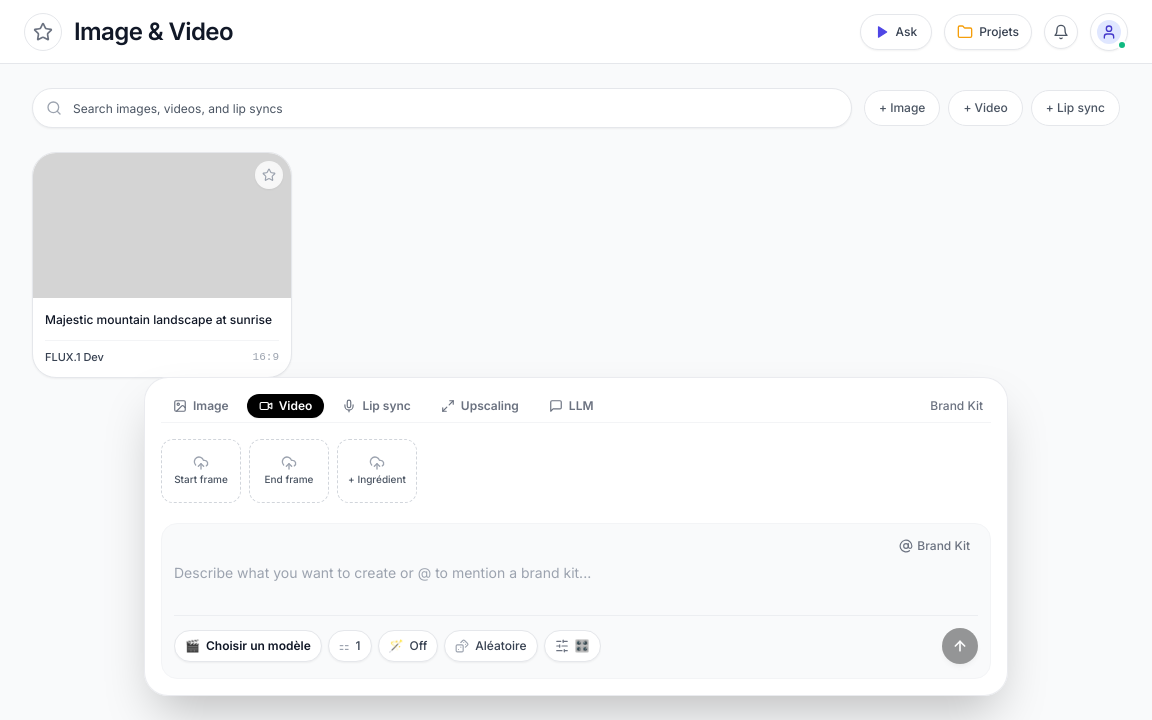
Test: App Integration › renders app with TopNavBar, MediaGallery and opens MediaPlayerModal on card click
Expected: the heading "Image & Video" is shown, 74,16 -> 233,48
Expected: the text "Majestic mountain landscape at sunrise" is shown, 45,310 -> 279,330
Click the button with test id "media-card-gen_app_1": (162, 265) 32,152 -> 292,378
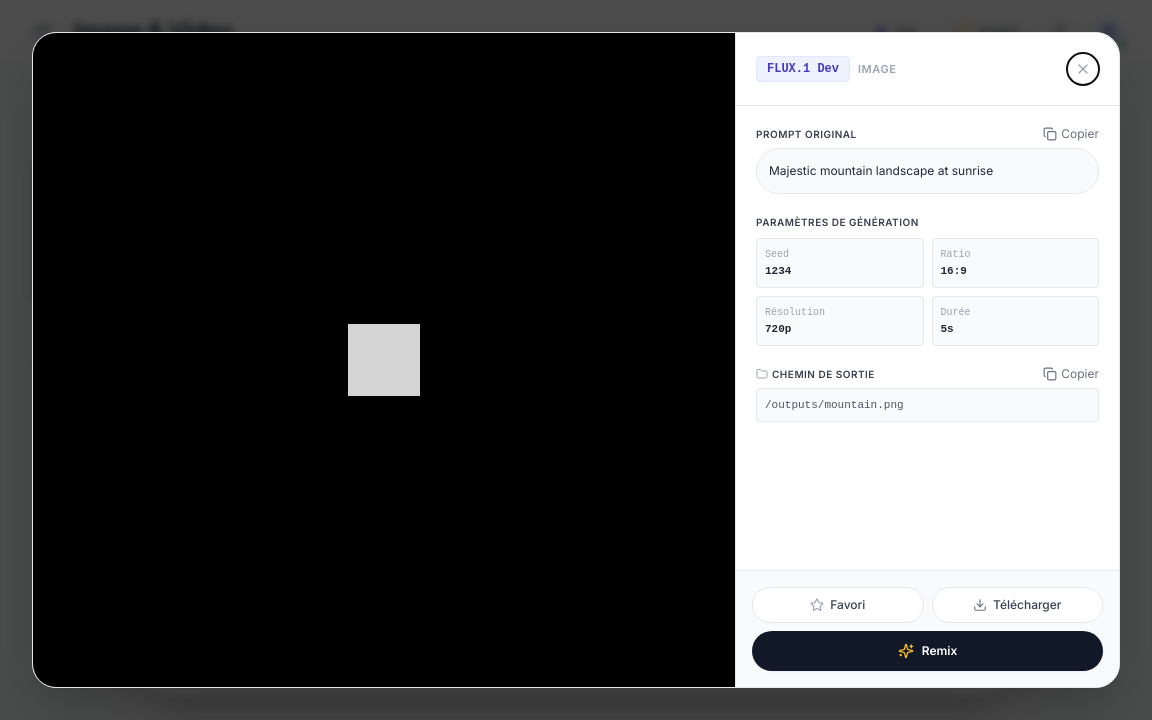
Now the button "Remix" is shown
Click the button "Remix": (928, 651) 752,631 -> 1103,671
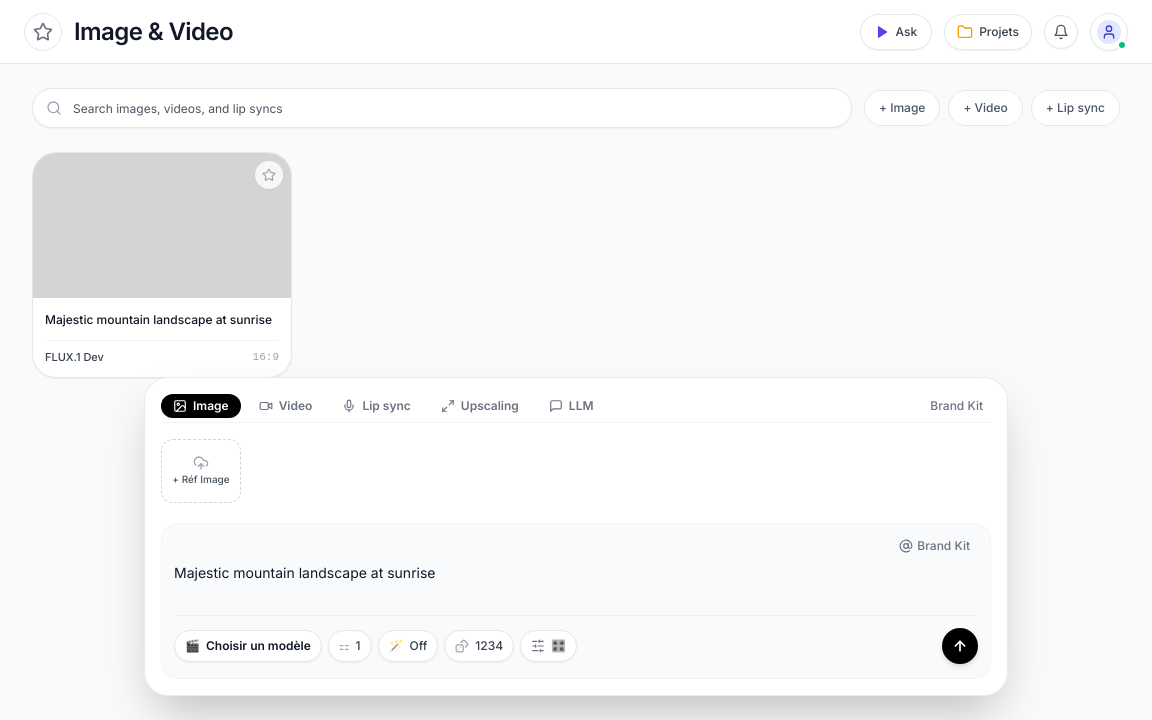
Now the button "Remix" is gone
